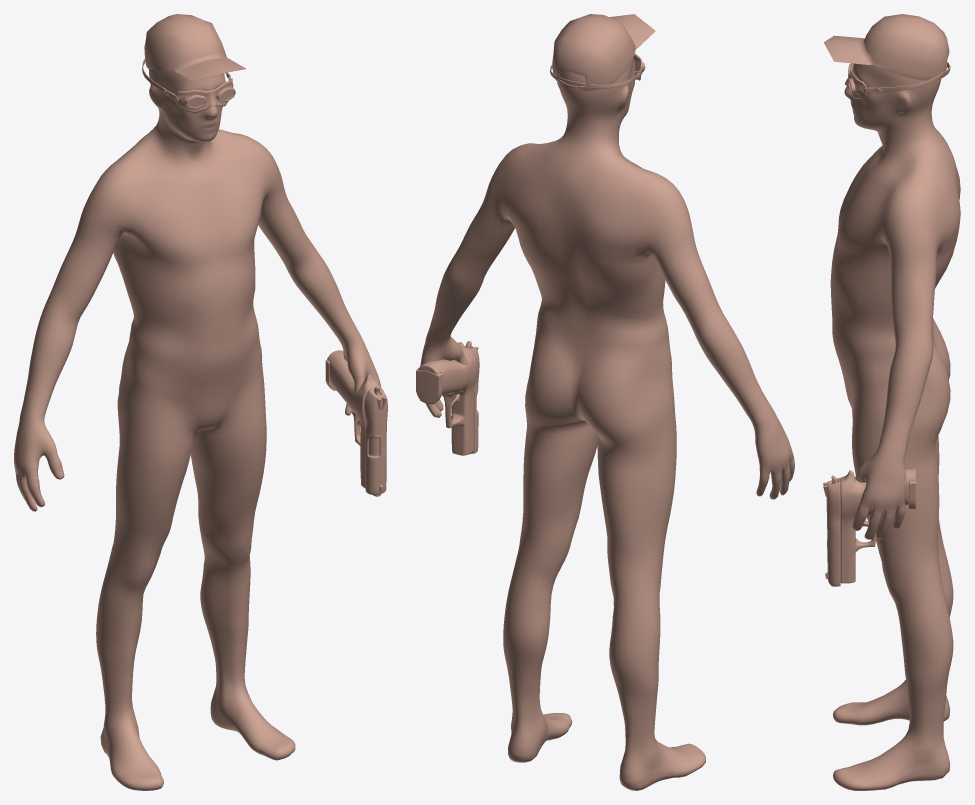
The model's file is Police Placeholder.fbx.
3 renders of one model, left to right at view 1: azimuth 30°, elevation 25°; view 2: azimuth 150°, elevation 25°; view 3: azimuth 270°, elevation 25°, orthographic.
Visible parts, largest first — view 1: BaseballCap:baseball_cap_seam_at_inner_edge1; view 2: BaseballCap:baseball_cap_seam_at_inner_edge1; view 3: BaseballCap:baseball_cap_seam_at_inner_edge1.
Boxes of the visible parts, x1,y1,x2,y2 form: BaseballCap:baseball_cap_seam_at_inner_edge1: (14, 14, 387, 790); BaseballCap:baseball_cap_seam_at_inner_edge1: (416, 14, 794, 790); BaseballCap:baseball_cap_seam_at_inner_edge1: (823, 14, 960, 790).
Size of the model in its own units: 95.48 by 186 by 31.57.
